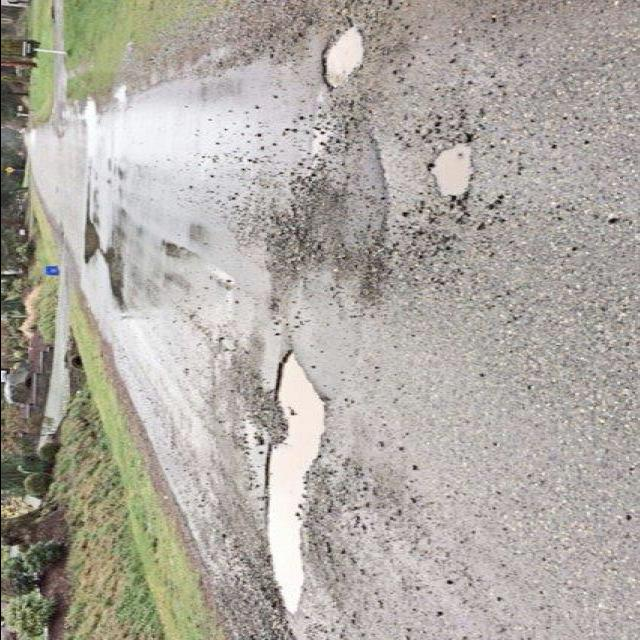lubang: (254, 346, 332, 622), (422, 139, 478, 207), (317, 19, 363, 93)
